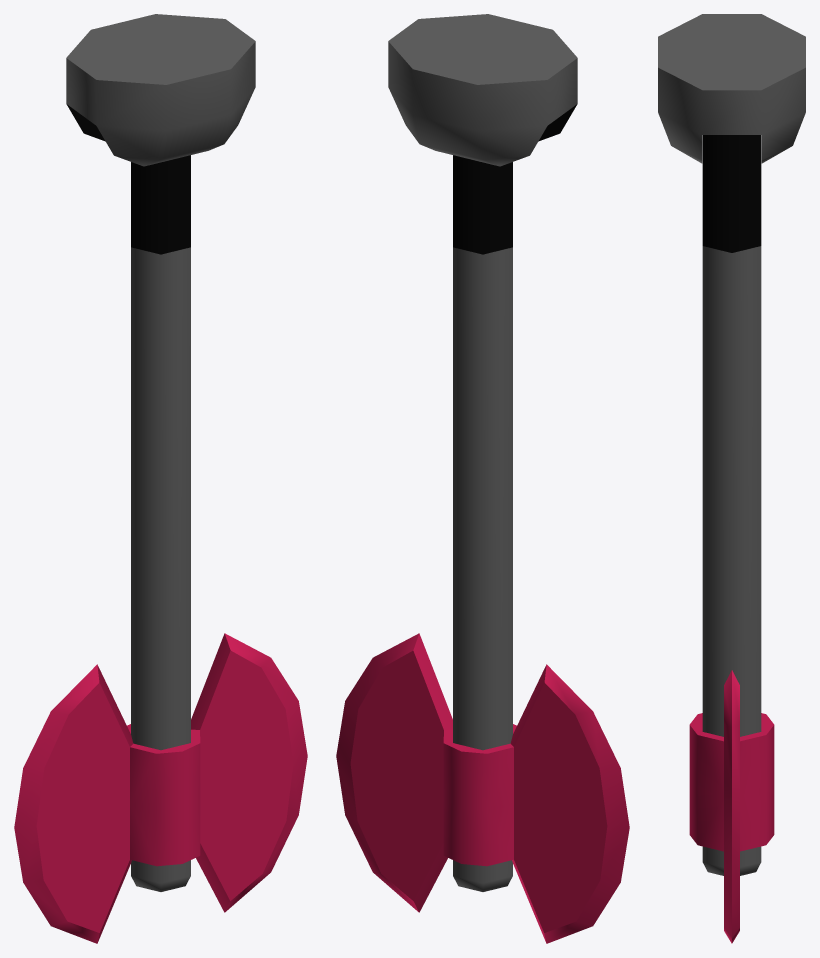
Rendered from obstacle14.fbx.
3 views of the same model, side by side, from view 1: azimuth 30°, elevation 25°; view 2: azimuth 150°, elevation 25°; view 3: azimuth 270°, elevation 25° (orthographic). The views are drawn at different scales.
Parts seen in each view (by area): view 1: axe, pCylinder2; view 2: axe, pCylinder2; view 3: axe, pCylinder2.
Boxes of the visible parts, x1,y1,x2,y2 form: axe: (14,155,307,943); pCylinder2: (66,14,255,166); axe: (336,155,629,943); pCylinder2: (388,14,577,166); axe: (689,135,774,943); pCylinder2: (658,14,805,163).
Size of the model in its own units: 10.97 by 31.38 by 4.88.
